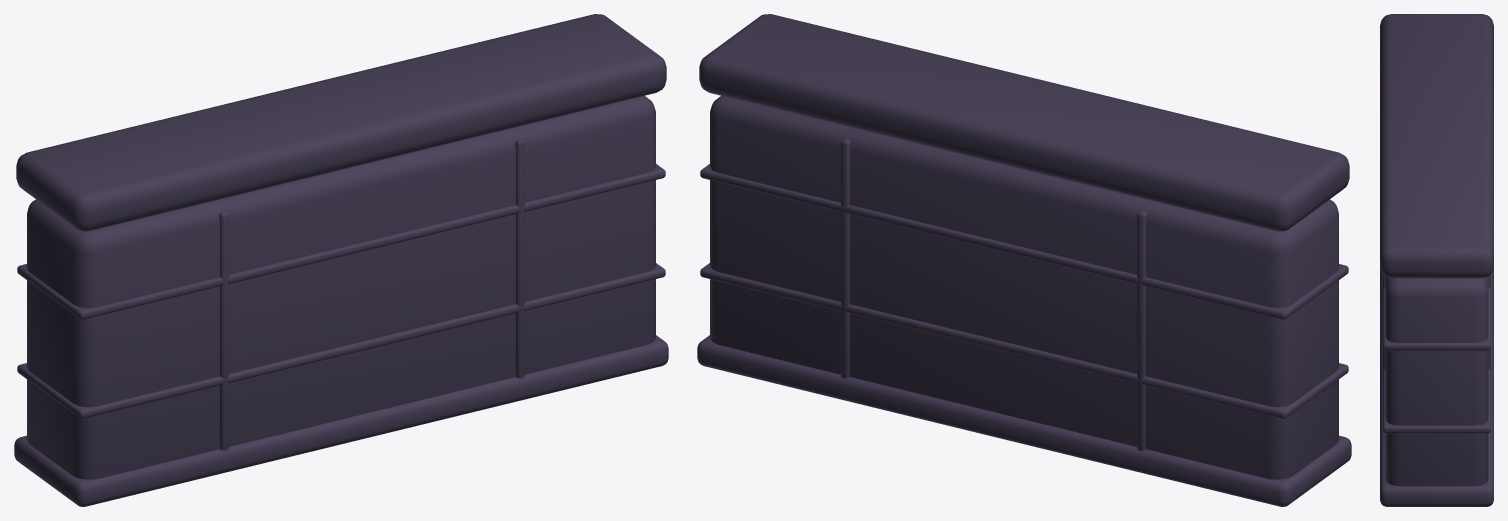
Rendered from CoverWall.fbx.
3 views of the same model, side by side, from view 1: azimuth 30°, elevation 25°; view 2: azimuth 150°, elevation 25°; view 3: azimuth 270°, elevation 25° (orthographic). The views are drawn at different scales.
Visible parts, largest first — view 1: CoverWall; view 2: CoverWall; view 3: CoverWall.
Boxes of the visible parts, x1=… form: CoverWall: x1=14, y1=14, x2=668, y2=506; CoverWall: x1=697, y1=14, x2=1351, y2=506; CoverWall: x1=1380, y1=14, x2=1493, y2=506.
Size of the model in its own units: 10 by 5 by 2.
